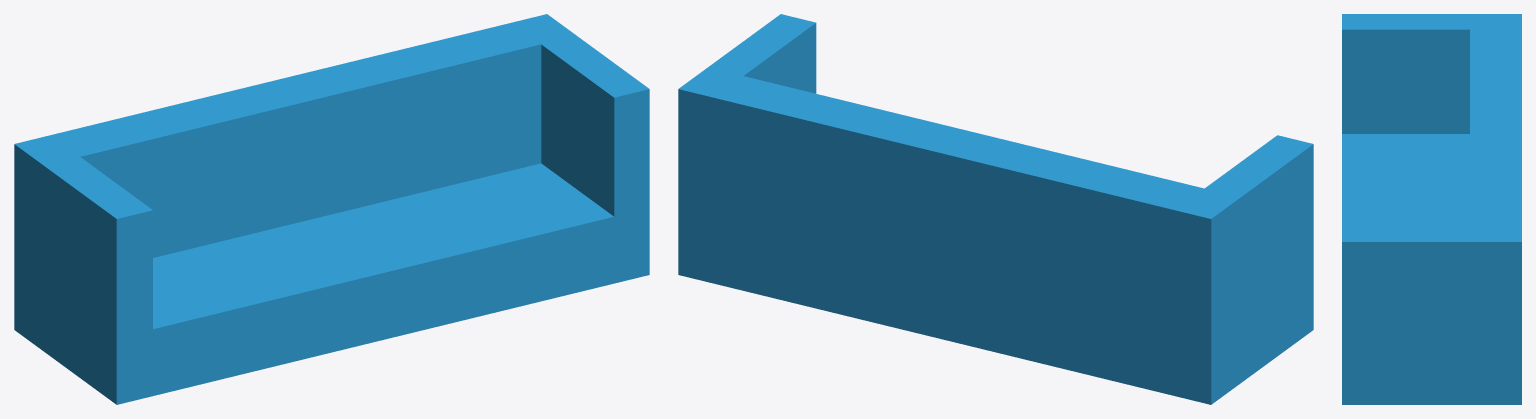
The model's file is bad_couch.glb.
The picture shows the model from 3 angles, left to right: view 1: azimuth 30°, elevation 25°; view 2: azimuth 150°, elevation 25°; view 3: azimuth 270°, elevation 25°; orthographic projection. The views are drawn at different scales.
Visible parts, largest first — view 1: Cube; view 2: Cube; view 3: Cube.
Boxes of the visible parts, box(x1,y1,x2,y2) form: Cube: box(14, 14, 649, 404); Cube: box(678, 14, 1313, 404); Cube: box(1342, 14, 1521, 404).
Size of the model in its own units: 6 by 2 by 2.
